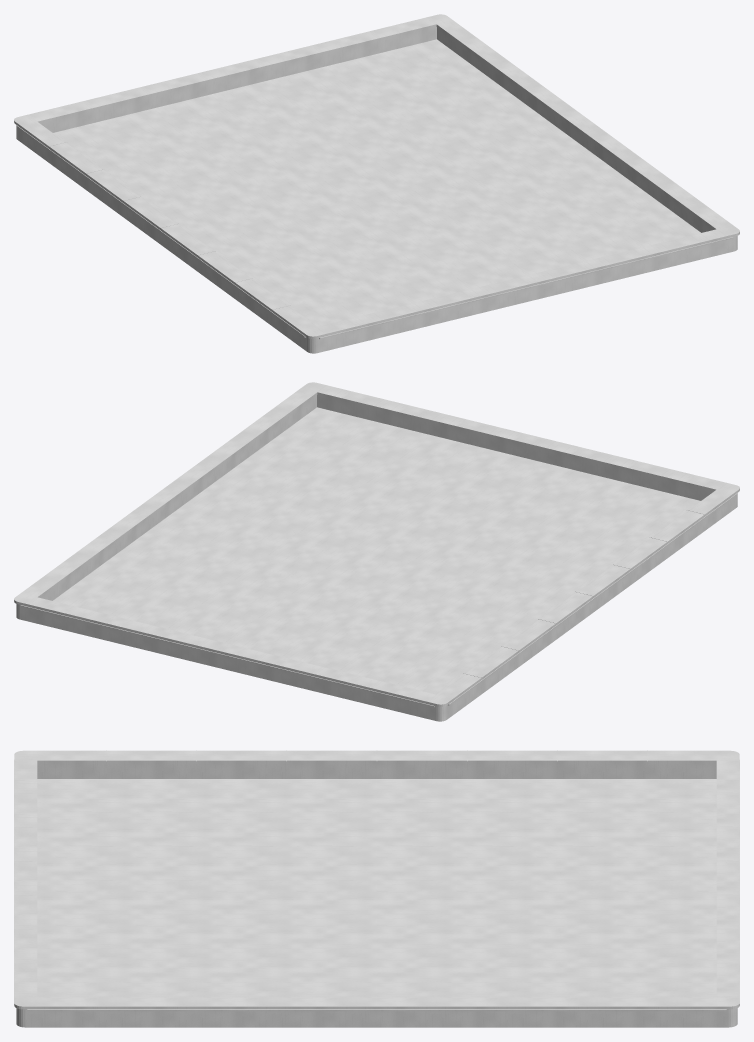
File: SM_Homes_H02_Roof.glb
3 views of the same model, one above another, from view 1: azimuth 30°, elevation 25°; view 2: azimuth 150°, elevation 25°; view 3: azimuth 270°, elevation 25° (orthographic). The views are drawn at different scales.
Visible parts, largest first — view 1: SM_Homes_H02_Roof; view 2: SM_Homes_H02_Roof; view 3: SM_Homes_H02_Roof.
Boxes of the visible parts, x1,y1,x2,y2 form: SM_Homes_H02_Roof: (14, 14, 739, 353); SM_Homes_H02_Roof: (14, 382, 739, 721); SM_Homes_H02_Roof: (14, 750, 739, 1027).
Bounding box in the file's own units: 7.56 × 0.344 × 9.06.
5 materials, 5 textured.
